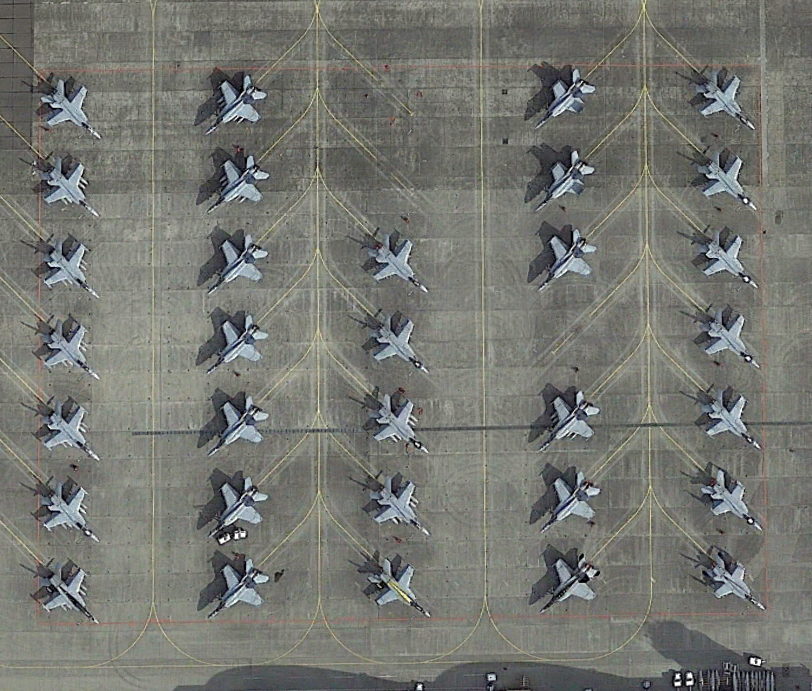A16: (38, 75, 108, 146), (35, 153, 105, 224), (35, 479, 105, 550), (36, 559, 106, 630), (201, 66, 271, 137), (204, 145, 274, 216), (202, 227, 272, 298), (201, 307, 271, 378), (202, 389, 272, 460), (200, 472, 270, 543), (203, 554, 273, 625), (365, 227, 435, 298), (368, 311, 438, 382), (363, 389, 433, 460), (367, 472, 437, 543), (363, 551, 433, 622), (530, 63, 600, 134), (529, 144, 599, 215), (536, 224, 606, 295), (532, 385, 602, 456), (535, 468, 605, 539), (537, 547, 607, 618), (692, 67, 762, 138), (694, 148, 764, 219), (696, 225, 766, 296), (697, 302, 767, 373), (697, 384, 767, 455), (698, 465, 768, 536), (701, 547, 771, 618), (38, 234, 108, 304), (35, 316, 105, 386), (36, 396, 106, 466)
